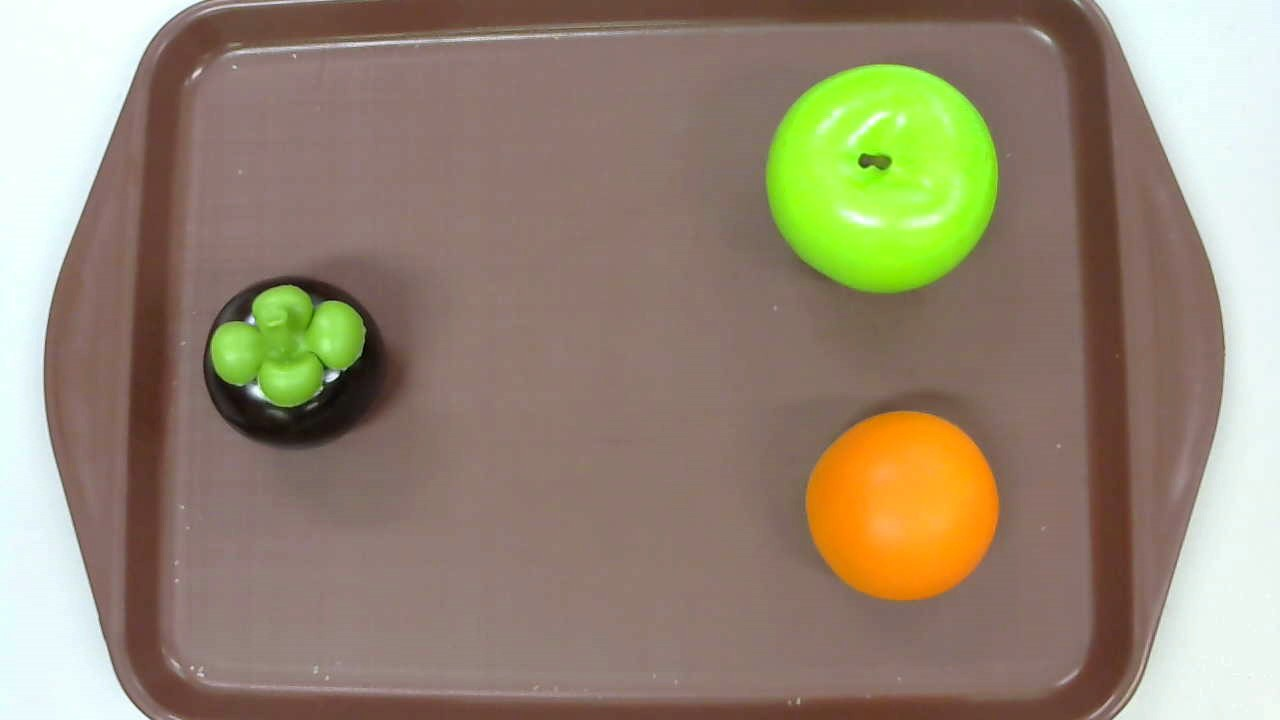bun: (805, 411, 1001, 600)
green apple: (765, 64, 998, 297)
mangosteen: (203, 275, 386, 447)
